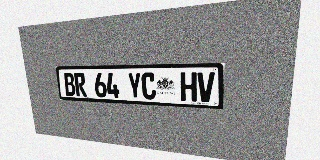4: (105, 73, 120, 98)
6: (93, 73, 107, 98)
B: (63, 73, 76, 96)
C: (141, 72, 156, 100)
H: (180, 72, 197, 102)
R: (74, 73, 87, 97)
V: (197, 72, 215, 102)
Y: (127, 73, 142, 99)
